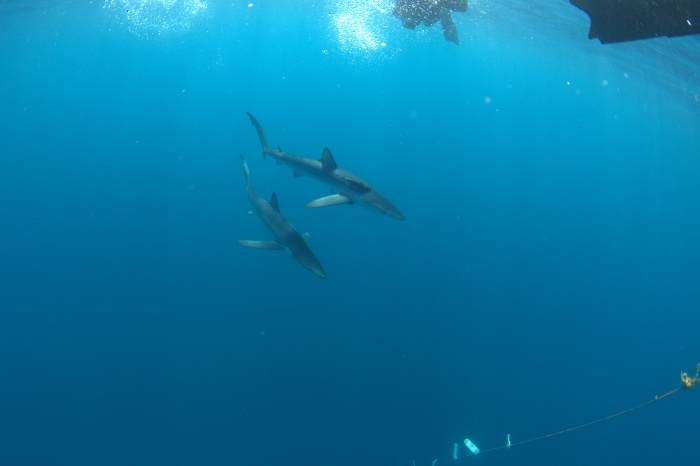Azul: (196, 101, 434, 291)
